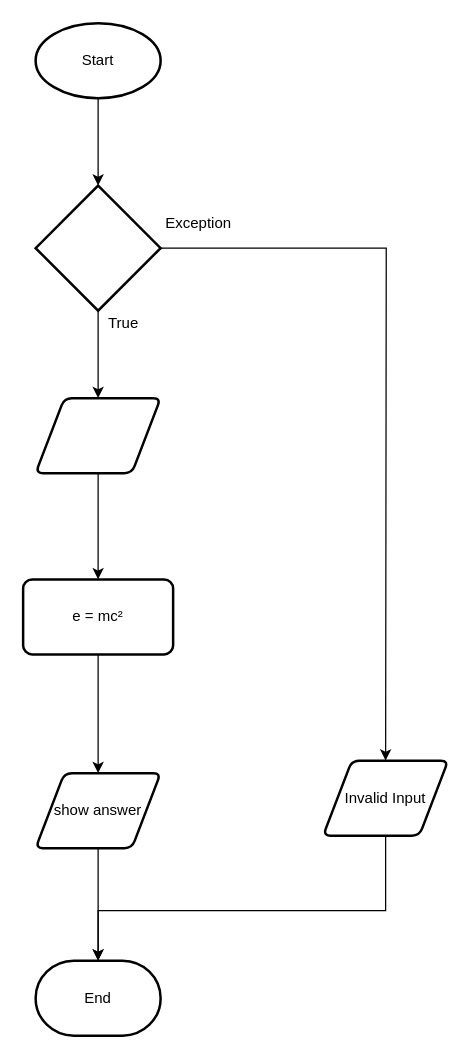
Some shapes in this 470 by 1058 pixel diagram are drawn without their labels. Here are the shapes that lost their labels. From the top down, the centre of each, then its label:
pixel 97 247: Try
pixel 97 435: get mass
